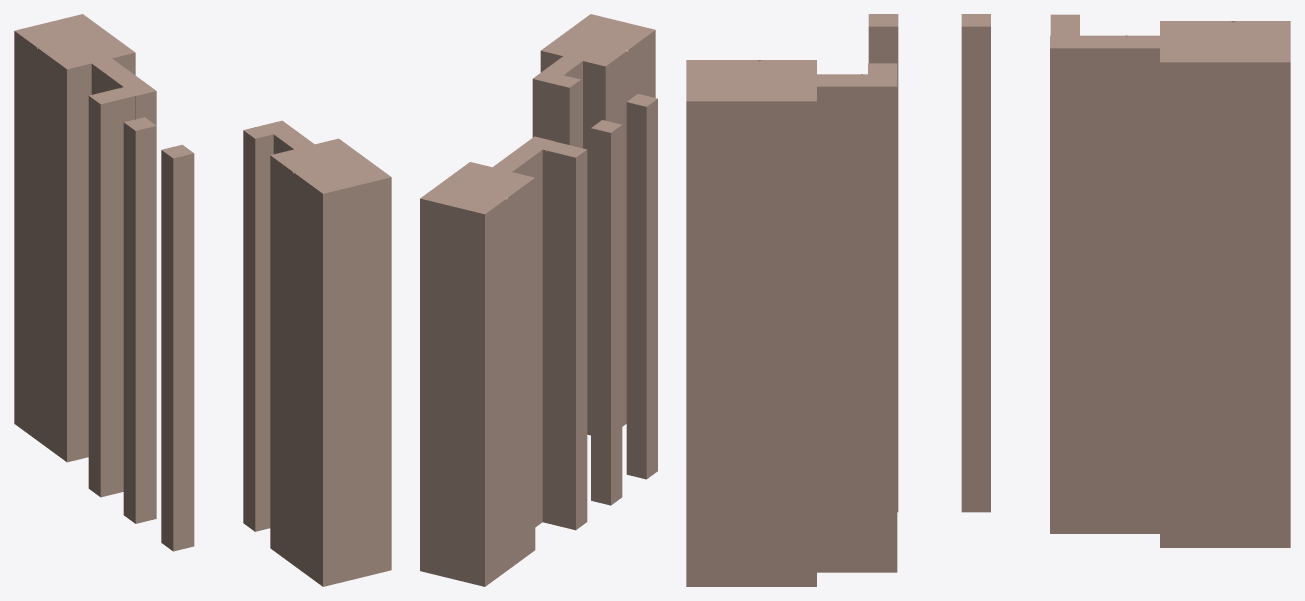
The model's file is Nivel13.fbx.
3 renders of one model, left to right at view 1: azimuth 30°, elevation 25°; view 2: azimuth 150°, elevation 25°; view 3: azimuth 270°, elevation 25°, orthographic. The views are drawn at different scales.
Visible parts, largest first — view 1: Plataforma-M.028, Plataforma-M.031, Plataforma-M.036, Plataforma-M.039, Plataforma-M.038, Plataforma-M.037, Plataforma-M.030, Plataforma-M.032, Plataforma-M.029; view 2: Plataforma-M.031, Plataforma-M.036, Plataforma-M.039, Plataforma-M.038, Plataforma-M.028, Plataforma-M.030, Plataforma-M.032, Plataforma-M.029, Plataforma-M.037; view 3: Plataforma-M.028, Plataforma-M.031, Plataforma-M.029, Plataforma-M.030, Plataforma-M.032, Plataforma-M.038, Plataforma-M.039.
Part boxes in pixels (x1,y1,x2,y2): Plataforma-M.028: (270, 138, 391, 586); Plataforma-M.031: (14, 14, 135, 462); Plataforma-M.036: (88, 87, 153, 497); Plataforma-M.039: (161, 144, 194, 551); Plataforma-M.038: (123, 117, 156, 523); Plataforma-M.037: (243, 125, 275, 531); Plataforma-M.030: (91, 58, 143, 94); Plataforma-M.032: (104, 68, 156, 125); Plataforma-M.029: (264, 120, 314, 154); Plataforma-M.031: (420, 162, 535, 586); Plataforma-M.036: (524, 137, 587, 530); Plataforma-M.039: (626, 94, 657, 479); Plataforma-M.038: (591, 120, 622, 505); Plataforma-M.028: (540, 14, 655, 435); Plataforma-M.030: (493, 145, 541, 527); Plataforma-M.032: (507, 136, 553, 522); Plataforma-M.029: (532, 56, 582, 148); Plataforma-M.037: (550, 74, 580, 147); Plataforma-M.028: (686, 60, 816, 586); Plataforma-M.031: (1160, 21, 1290, 547); Plataforma-M.029: (816, 74, 897, 572); Plataforma-M.030: (1082, 35, 1159, 533); Plataforma-M.032: (1050, 35, 1128, 533); Plataforma-M.038: (961, 14, 990, 512); Plataforma-M.039: (868, 14, 898, 512).
Bounding box in the file's own units: 2562 × 6652 × 7499.
